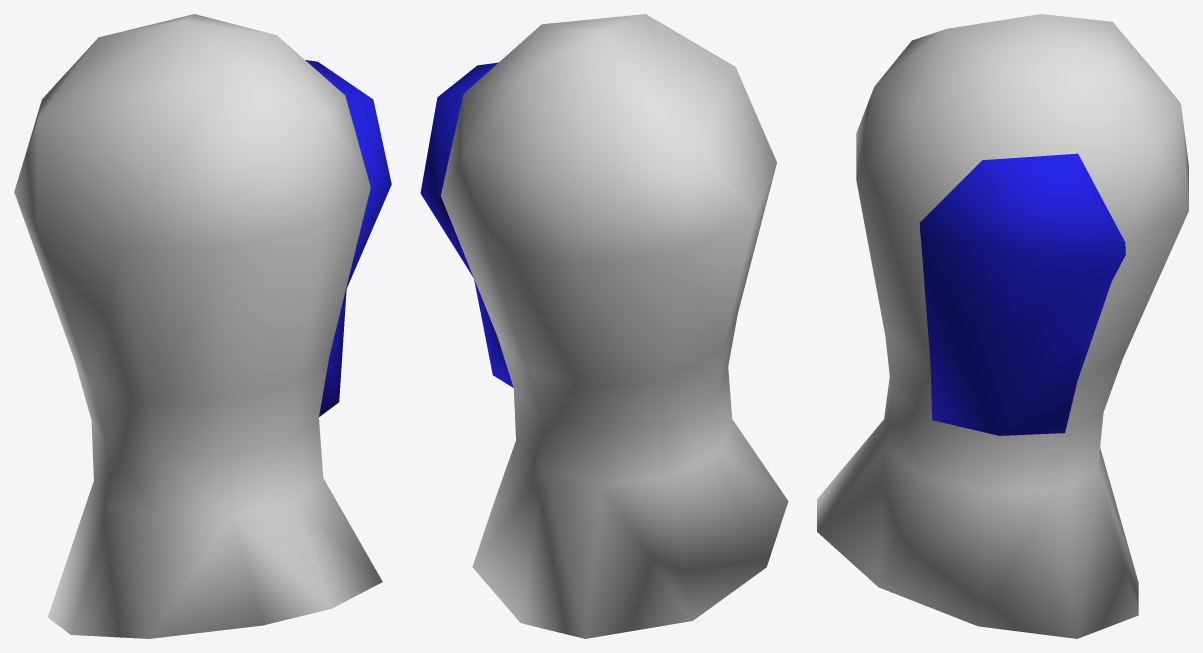
Rendered from lthigh.obj.
3 views of the same model, side by side, from view 1: azimuth 30°, elevation 25°; view 2: azimuth 150°, elevation 25°; view 3: azimuth 270°, elevation 25° (orthographic). The views are drawn at different scales.
Parts seen in each view (by area): view 1: thigh.000_Sphere.003; view 2: thigh.000_Sphere.003; view 3: thigh.000_Sphere.003.
Boxes of the visible parts, <box> form: thigh.000_Sphere.003: <box>14,14,391,638</box>; thigh.000_Sphere.003: <box>420,14,788,638</box>; thigh.000_Sphere.003: <box>817,14,1188,638</box>.
Bounding box in the file's own units: 0.1061 × 0.1799 × 0.1036.
